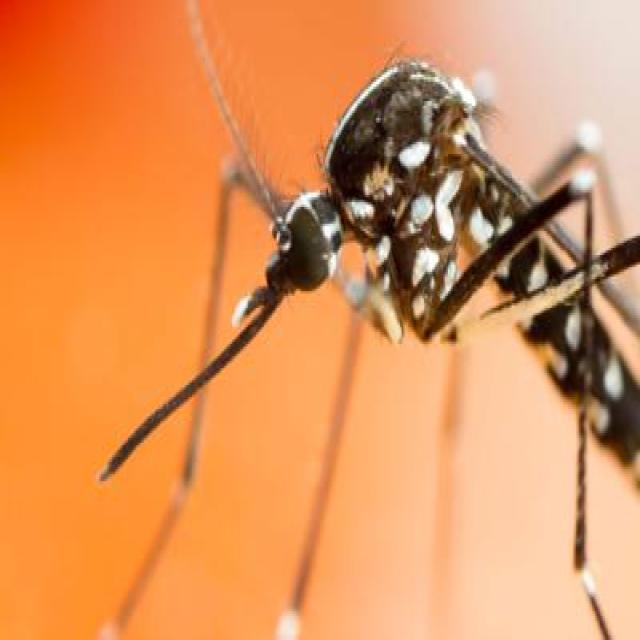antennae: (163, 0, 292, 237)
body: (271, 52, 640, 500)
insect: (88, 7, 640, 640)
legs: (435, 148, 640, 640), (130, 155, 269, 640), (270, 320, 381, 640)
mouthpart: (91, 225, 298, 486)
wings: (462, 127, 640, 350)
